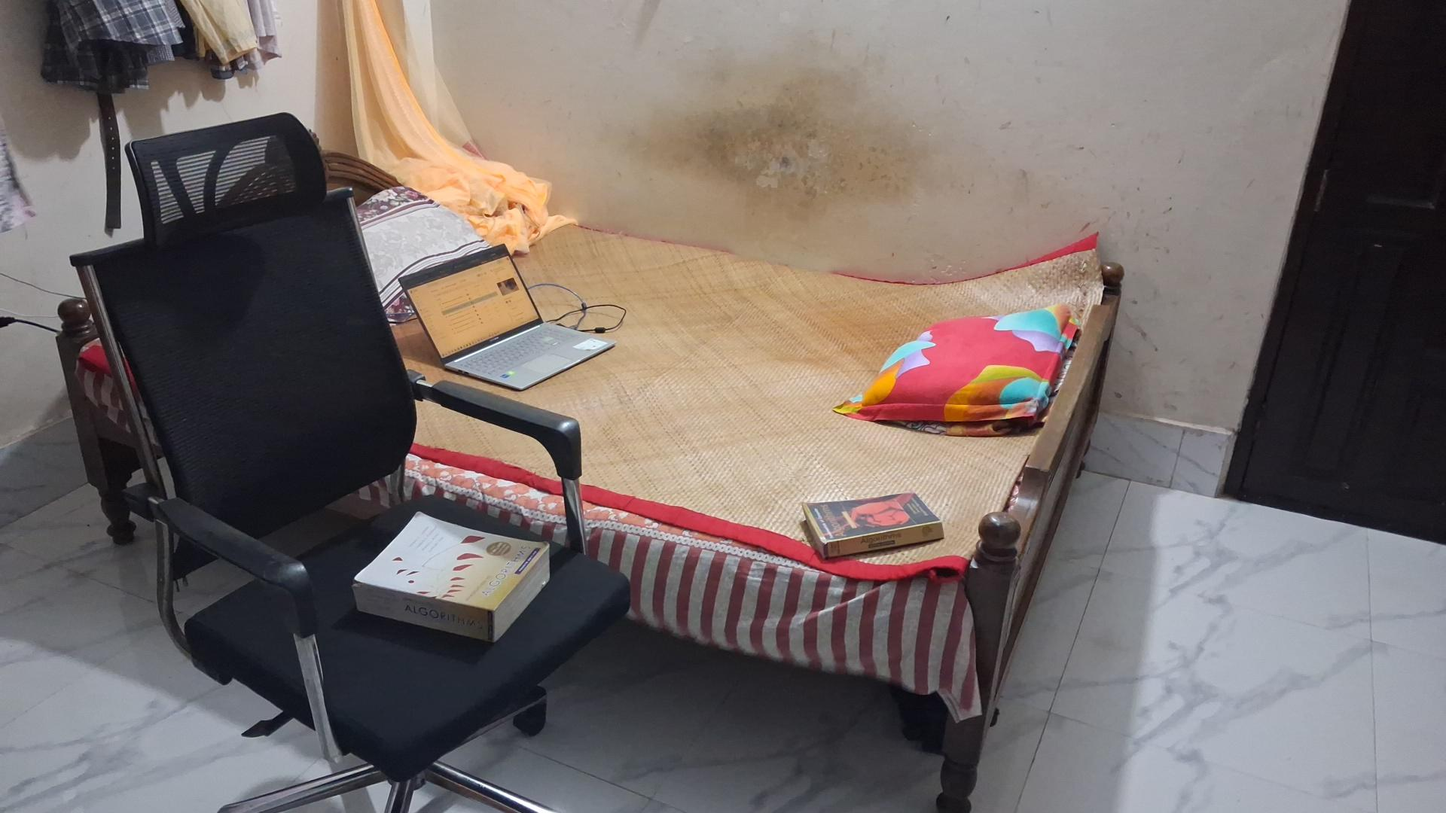Book: (351, 509, 550, 644), (800, 490, 944, 558)
Chair: (68, 180, 631, 802)
Laptop: (400, 241, 617, 392)
Pillow: (845, 292, 1077, 425)
